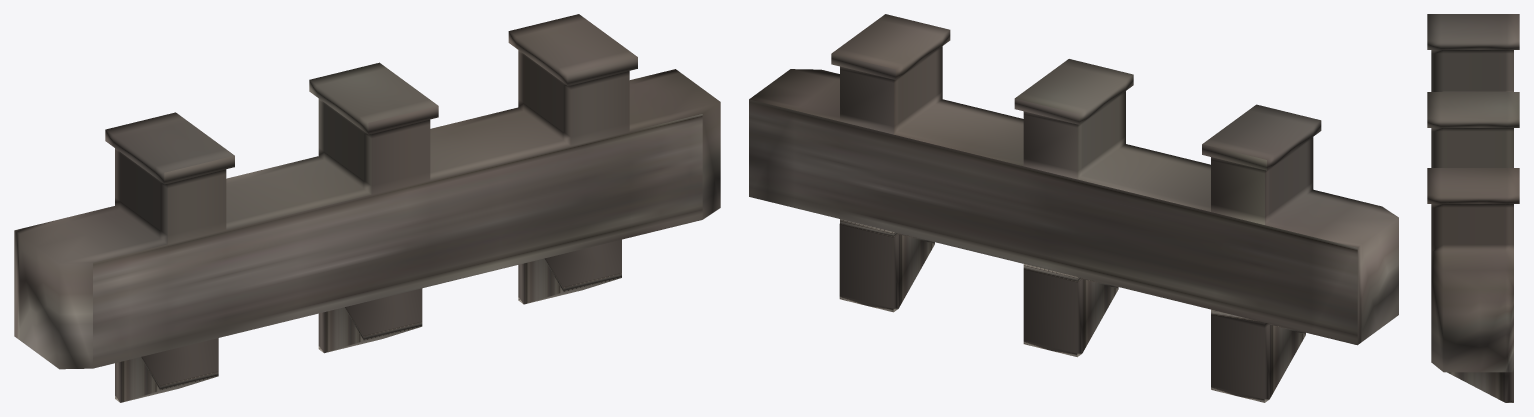
File: rampart_offset.glb
3 renders of one model, left to right at view 1: azimuth 30°, elevation 25°; view 2: azimuth 150°, elevation 25°; view 3: azimuth 270°, elevation 25°, orthographic. The views are drawn at different scales.
Visible parts, largest first — view 1: rampart_offset; view 2: rampart_offset; view 3: rampart_offset.
Boxes of the visible parts, x1,y1,x2,y2 form: rampart_offset: (14, 14, 720, 402); rampart_offset: (749, 14, 1398, 402); rampart_offset: (1427, 14, 1519, 402).
Size of the model in its own units: 16 by 6.2 by 2.47.
Materials: 1 (1 with a texture image).
